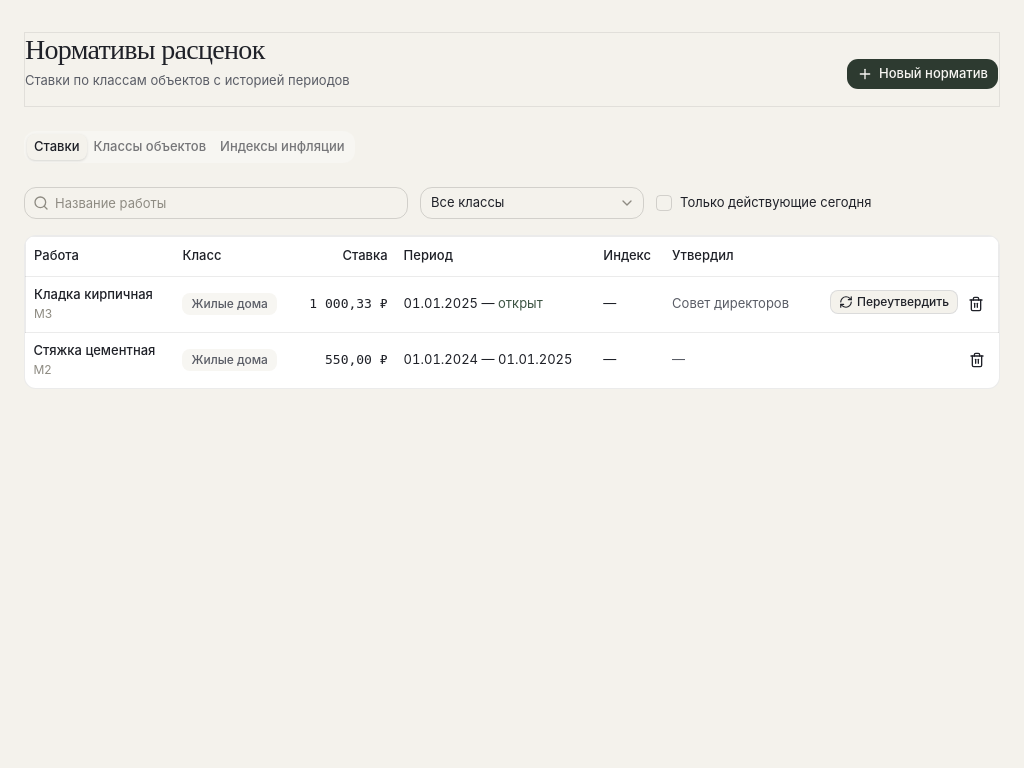
it: Диалог переутверждения (§4) › предзаполняет ставку как «прежняя × индекс» точно, без float
Expected: the text "Кладка кирпичная" is shown, [34,285,166,304]
Click the button "Переутвердить": point(894, 302) [830,290,958,314]
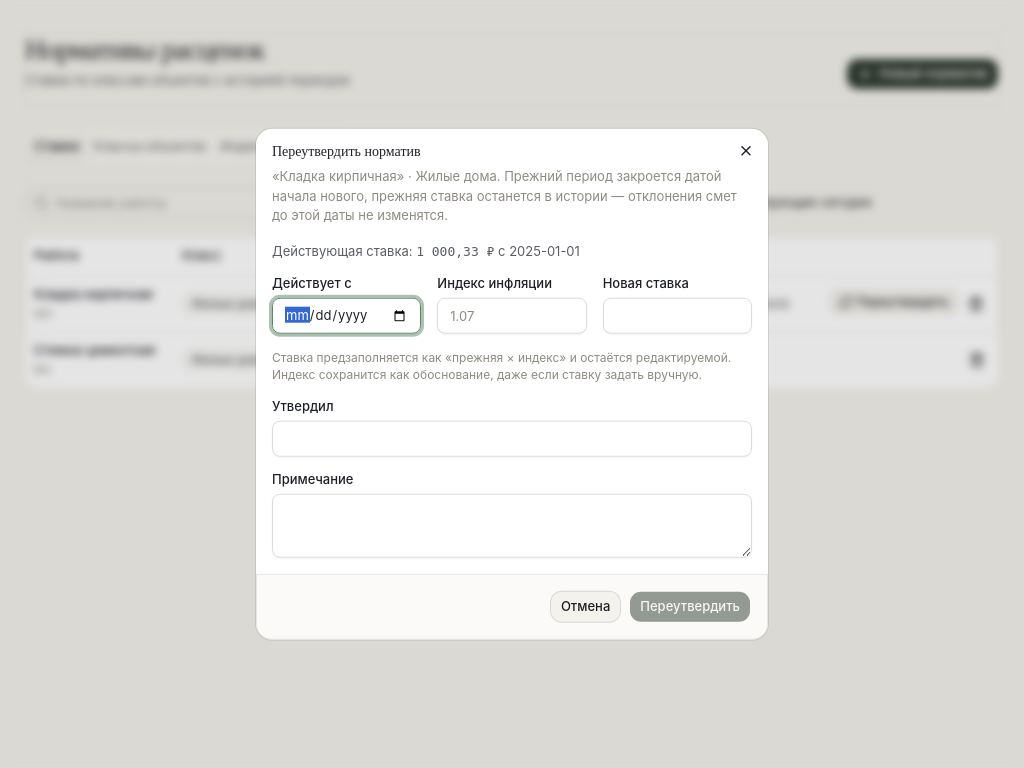
In the field labelled "Индекс инфляции": point(512, 316) [437,298,587,334], type "1.075"
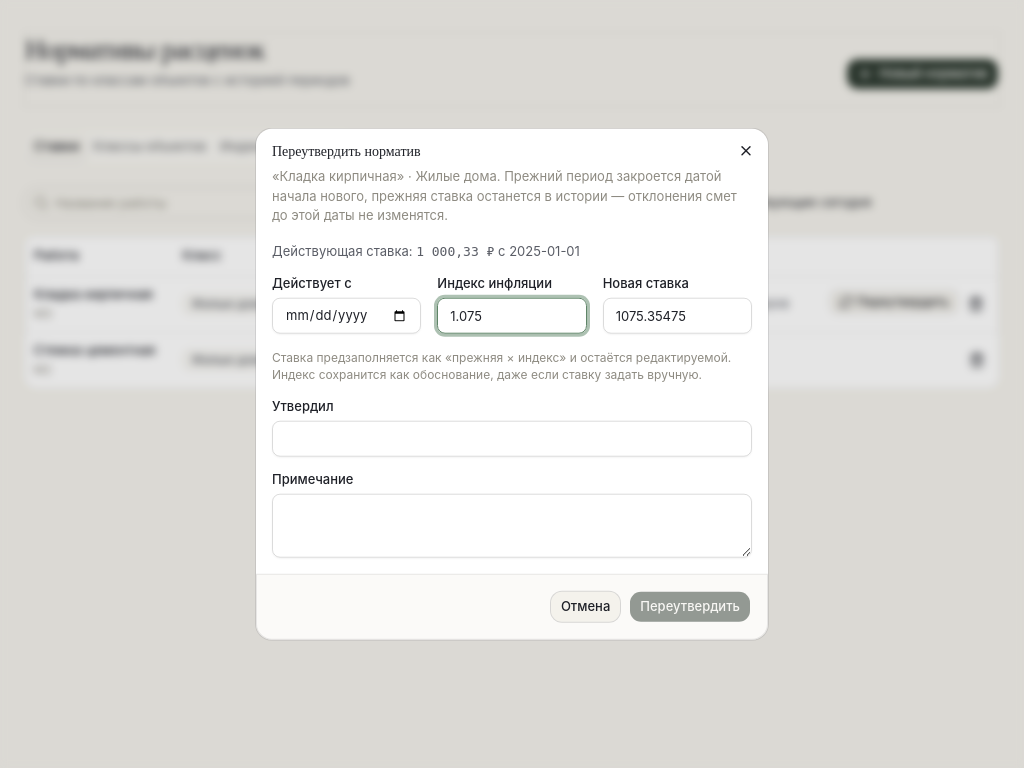
Now the field labelled "Новая ставка" holds "1075.35475", box [603,298,752,334]
